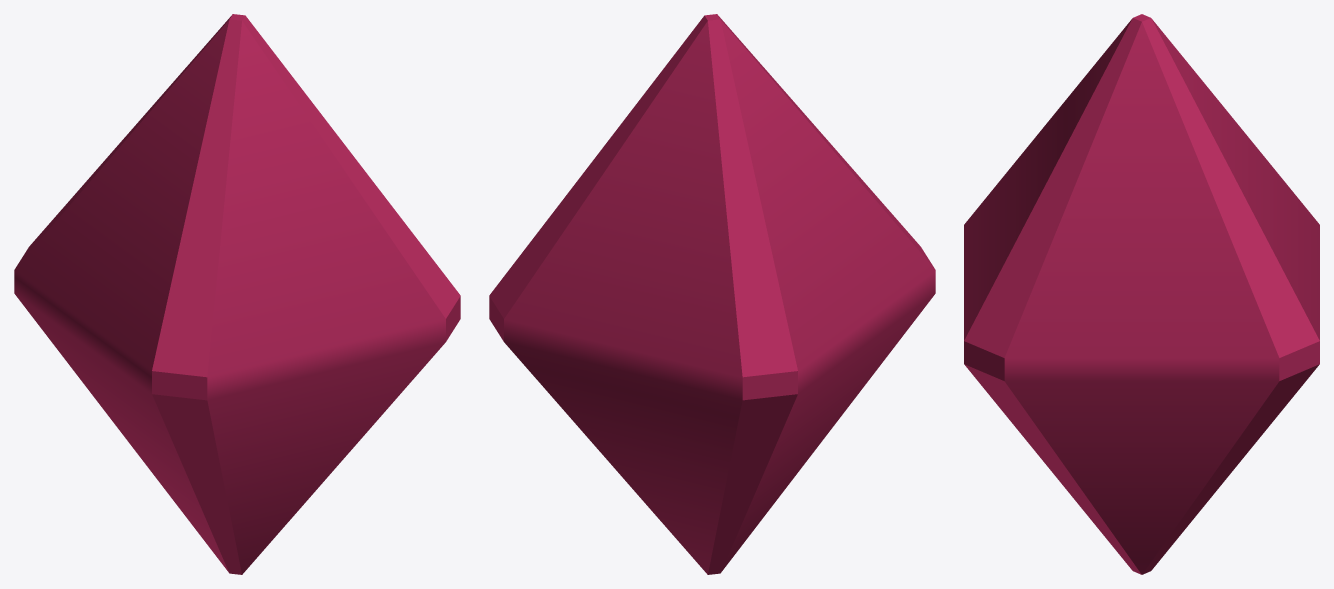
Rendered from GemPink.glb.
3 renders of one model, left to right at view 1: azimuth 30°, elevation 25°; view 2: azimuth 150°, elevation 25°; view 3: azimuth 270°, elevation 25°, orthographic.
Parts seen in each view (by area): view 1: UI_Gem_Pink; view 2: UI_Gem_Pink; view 3: UI_Gem_Pink.
Part boxes in pixels (x1,y1,x2,y2): UI_Gem_Pink: (14,14,460,574); UI_Gem_Pink: (489,14,935,574); UI_Gem_Pink: (964,14,1319,574).
Bounding box in the file's own units: 0.4229 × 0.7251 × 0.4229.
